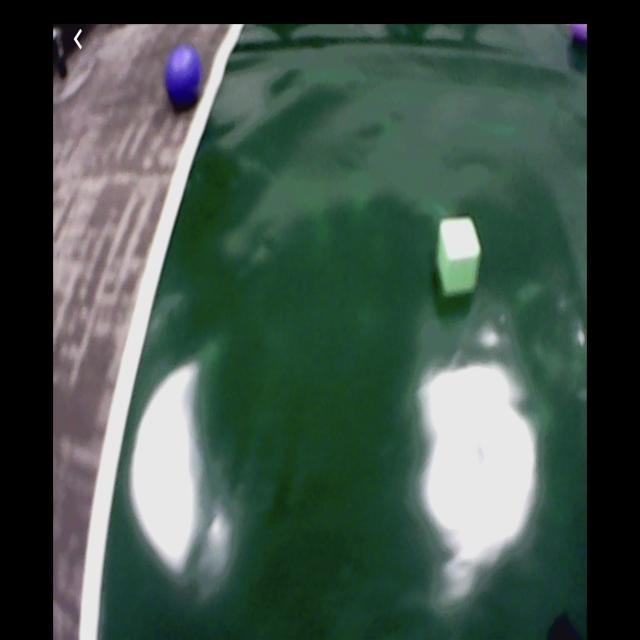ball: (167, 46, 201, 105), (570, 25, 588, 48)
